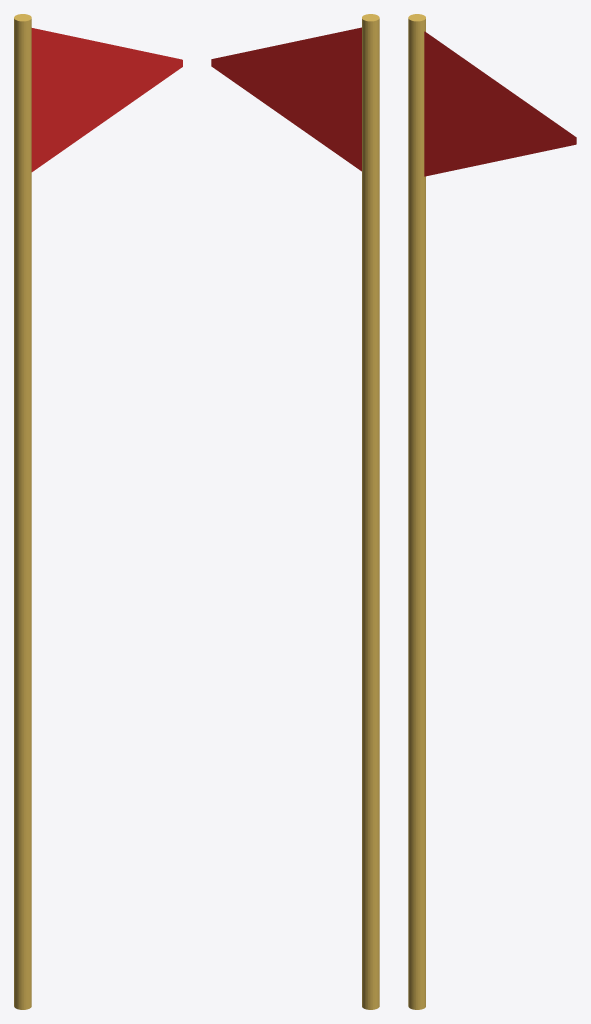
Rendered from Goal.fbx.
3 renders of one model, left to right at view 1: azimuth 30°, elevation 25°; view 2: azimuth 150°, elevation 25°; view 3: azimuth 330°, elevation 25°, orthographic.
Parts seen in each view (by area): view 1: Cylinder, Plane; view 2: Cylinder, Plane; view 3: Cylinder, Plane.
Boxes of the visible parts, box(x1,y1,x2,y2) form: Cylinder: box(14, 14, 31, 1009); Plane: box(31, 28, 182, 171); Cylinder: box(362, 14, 379, 1009); Plane: box(211, 27, 361, 171); Cylinder: box(408, 14, 425, 1009); Plane: box(424, 31, 576, 176).
Bounding box in the file's own units: 233 × 1319 × 21.41.
